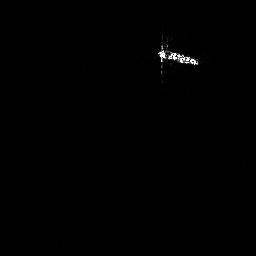ship: (153, 38, 201, 77)
